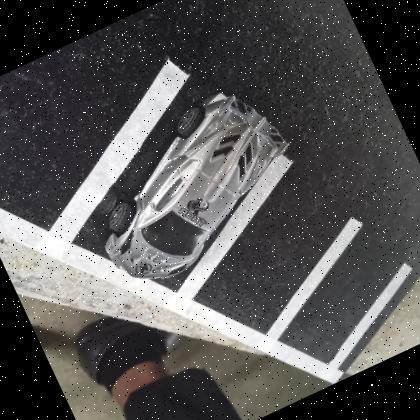Car: (104, 93, 287, 278)
